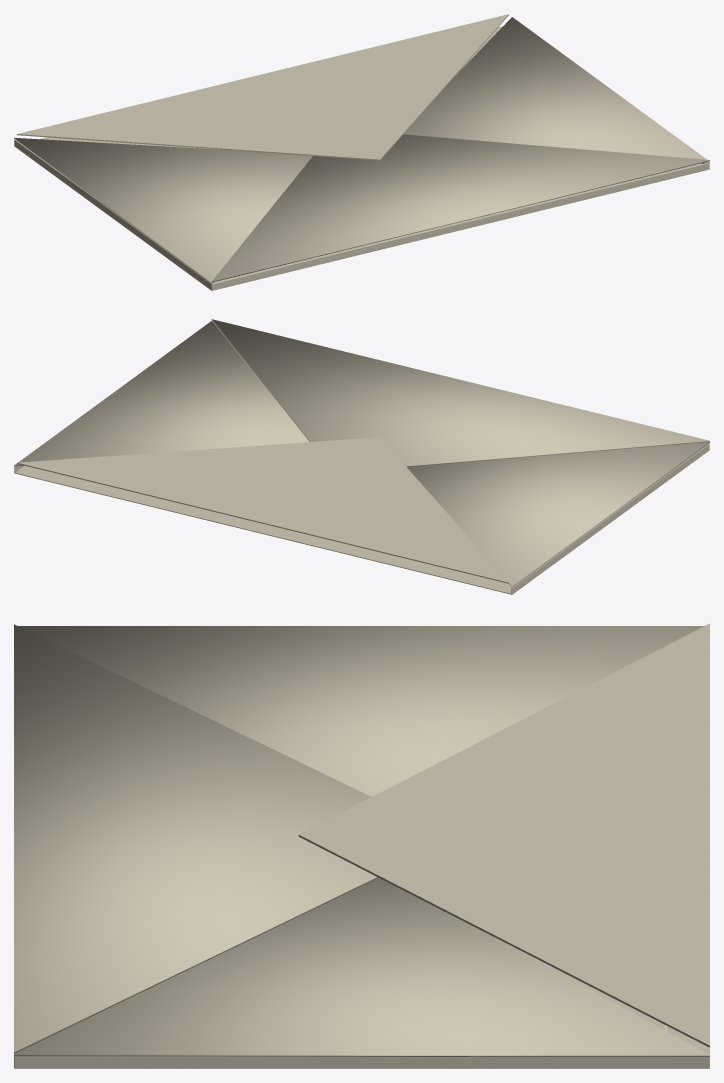
The model's file is D05_EnvelopeIvory.fbx.
3 renders of one model, top to bottom at view 1: azimuth 30°, elevation 25°; view 2: azimuth 150°, elevation 25°; view 3: azimuth 270°, elevation 25°, orthographic. The views are drawn at different scales.
Visible parts, largest first — view 1: EnvelopeBody_Mesh, FlapPivot_Mesh; view 2: EnvelopeBody_Mesh, FlapPivot_Mesh; view 3: EnvelopeBody_Mesh, FlapPivot_Mesh.
Part boxes in pixels (x1=…): EnvelopeBody_Mesh: x1=14, y1=17, x2=709, y2=290; FlapPivot_Mesh: x1=17, y1=14, x2=508, y2=160; EnvelopeBody_Mesh: x1=14, y1=319, x2=709, y2=594; FlapPivot_Mesh: x1=17, y1=437, x2=508, y2=583; EnvelopeBody_Mesh: x1=14, y1=624, x2=709, y2=1068; FlapPivot_Mesh: x1=298, y1=623, x2=709, y2=1047.
Size of the model in its own units: 0.16 by 0.00356 by 0.11.
